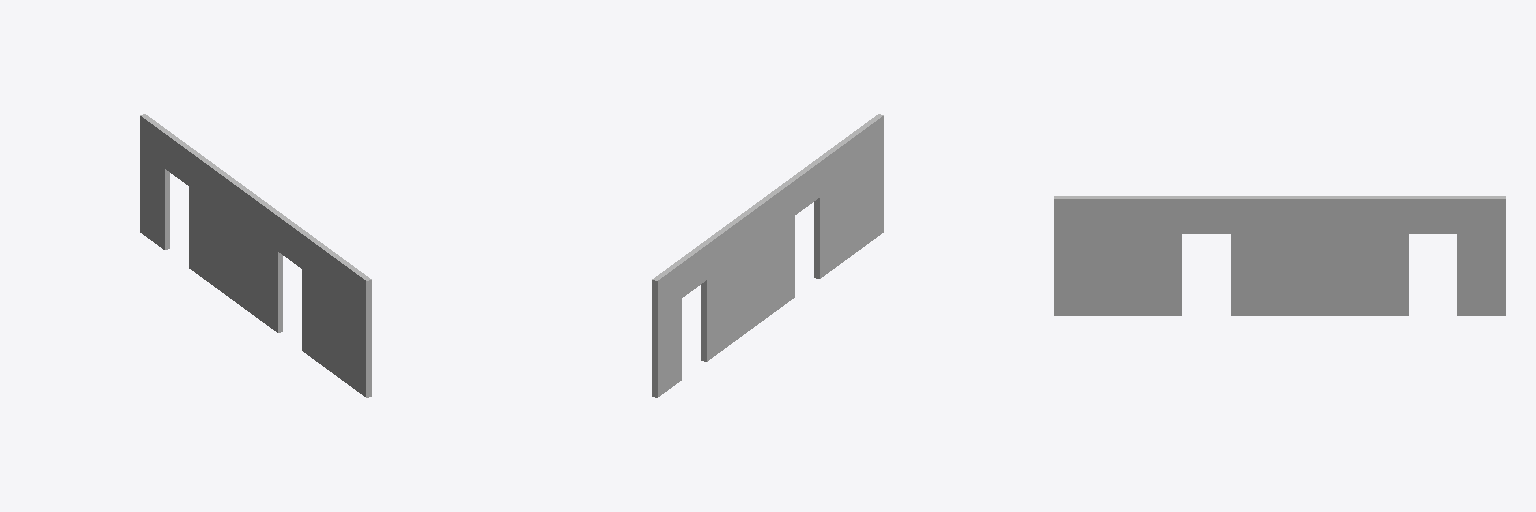
Rendered from parede_8.obj.
3 renders of one model, left to right at view 1: azimuth 30°, elevation 25°; view 2: azimuth 150°, elevation 25°; view 3: azimuth 270°, elevation 25°, orthographic.
Parts seen in each view (by area): view 1: parede_8_Cube; view 2: parede_8_Cube; view 3: parede_8_Cube.
Boxes of the visible parts, box(x1,y1,x2,y2) form: parede_8_Cube: box(140, 114, 371, 397); parede_8_Cube: box(652, 114, 883, 397); parede_8_Cube: box(1054, 196, 1505, 315).
Size of the model in its own units: 0.2 by 4 by 14.04.